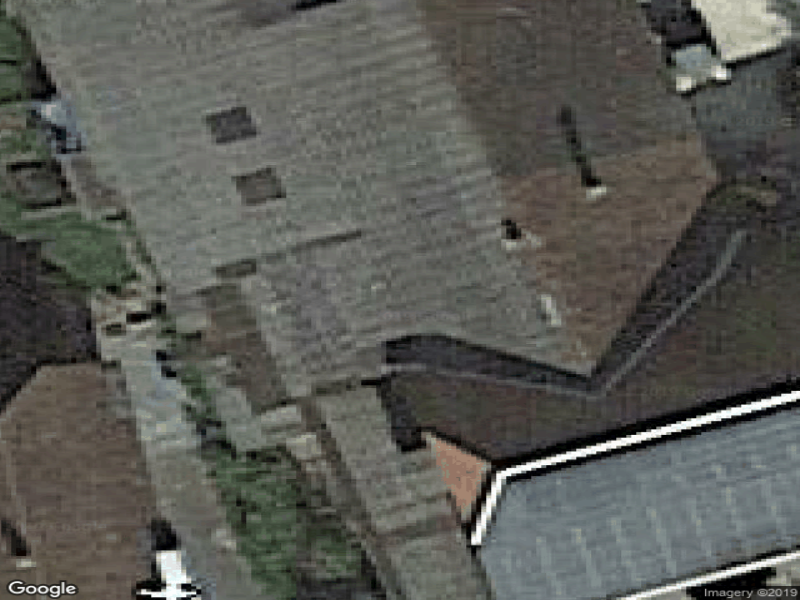pv: (478, 399, 800, 598)
